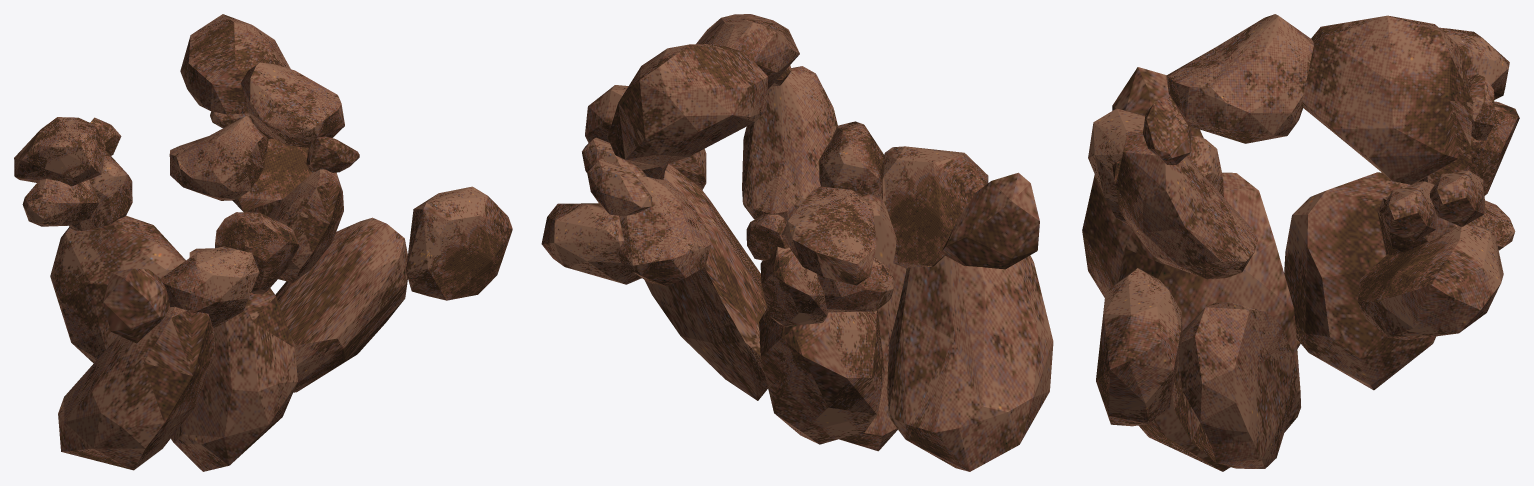
File: Rocks Test.fbx
3 renders of one model, left to right at view 1: azimuth 30°, elevation 25°; view 2: azimuth 150°, elevation 25°; view 3: azimuth 270°, elevation 25°, orthographic. The views are drawn at different scales.
Parts seen in each view (by area): view 1: Rocks_LoPo.022, Rocks_LoPo.024, Rocks_LoPo.023, Rocks_LoPo.019, Rocks_LoPo.021, Rocks_LoPo.016, Rocks_LoPo.017, Rocks_LoPo.009, Rocks_LoPo.014, Rocks_LoPo.018, Rocks_LoPo.001, Rocks_LoPo.013 (+6 smaller); view 2: Rocks_LoPo.022, Rocks_LoPo.016, Rocks_LoPo.021, Rocks_LoPo.024, Rocks_LoPo.001, Rocks_LoPo.014, Rocks_LoPo.018, Rocks_LoPo.009, Rocks_LoPo.015, Rocks_LoPo.004, Rocks_LoPo.008, Rocks_LoPo.023 (+7 smaller); view 3: Rocks_LoPo.016, Rocks_LoPo.021, Rocks_LoPo.024, Rocks_LoPo.017, Rocks_LoPo.001, Rocks_LoPo.004, Rocks_LoPo.023, Rocks_LoPo.019, Rocks_LoPo.022, Rocks_LoPo.014, Rocks_LoPo.008, Rocks_LoPo.010 (+7 smaller).
Boxes of the visible parts, left/top/right/bottom form: Rocks_LoPo.022: left=58, top=306, right=215, bottom=470; Rocks_LoPo.024: left=275, top=217, right=407, bottom=392; Rocks_LoPo.023: left=171, top=248, right=297, bottom=471; Rocks_LoPo.019: left=406, top=186, right=512, bottom=300; Rocks_LoPo.021: left=50, top=215, right=185, bottom=363; Rocks_LoPo.016: left=180, top=14, right=290, bottom=114; Rocks_LoPo.017: left=241, top=62, right=344, bottom=147; Rocks_LoPo.009: left=169, top=115, right=268, bottom=200; Rocks_LoPo.014: left=161, top=246, right=259, bottom=328; Rocks_LoPo.018: left=14, top=117, right=105, bottom=186; Rocks_LoPo.001: left=268, top=169, right=343, bottom=282; Rocks_LoPo.013: left=215, top=212, right=299, bottom=294; Rocks_LoPo.022: left=887, top=255, right=1053, bottom=471; Rocks_LoPo.016: left=607, top=44, right=768, bottom=170; Rocks_LoPo.021: left=759, top=308, right=884, bottom=444; Rocks_LoPo.024: left=644, top=163, right=767, bottom=400; Rocks_LoPo.001: left=742, top=66, right=837, bottom=221; Rocks_LoPo.014: left=882, top=146, right=988, bottom=268; Rocks_LoPo.018: left=781, top=186, right=876, bottom=285; Rocks_LoPo.009: left=616, top=176, right=711, bottom=286; Rocks_LoPo.015: left=941, top=172, right=1039, bottom=269; Rocks_LoPo.004: left=541, top=203, right=641, bottom=284; Rocks_LoPo.008: left=760, top=247, right=828, bottom=327; Rocks_LoPo.023: left=839, top=194, right=906, bottom=451; Rocks_LoPo.016: left=1301, top=15, right=1473, bottom=184; Rocks_LoPo.021: left=1284, top=172, right=1436, bottom=390; Rocks_LoPo.024: left=1172, top=302, right=1299, bottom=468; Rocks_LoPo.017: left=1166, top=14, right=1313, bottom=143; Rocks_LoPo.001: left=1116, top=131, right=1257, bottom=279; Rocks_LoPo.004: left=1357, top=223, right=1503, bottom=340; Rocks_LoPo.023: left=1116, top=172, right=1300, bottom=471; Rocks_LoPo.019: left=1096, top=268, right=1182, bottom=426; Rocks_LoPo.022: left=1082, top=174, right=1300, bottom=348; Rocks_LoPo.014: left=1088, top=108, right=1145, bottom=224; Rocks_LoPo.008: left=1410, top=101, right=1519, bottom=195; Rocks_LoPo.010: left=1143, top=96, right=1191, bottom=164.
Size of the model in its own units: 3132 by 2740 by 2123.
